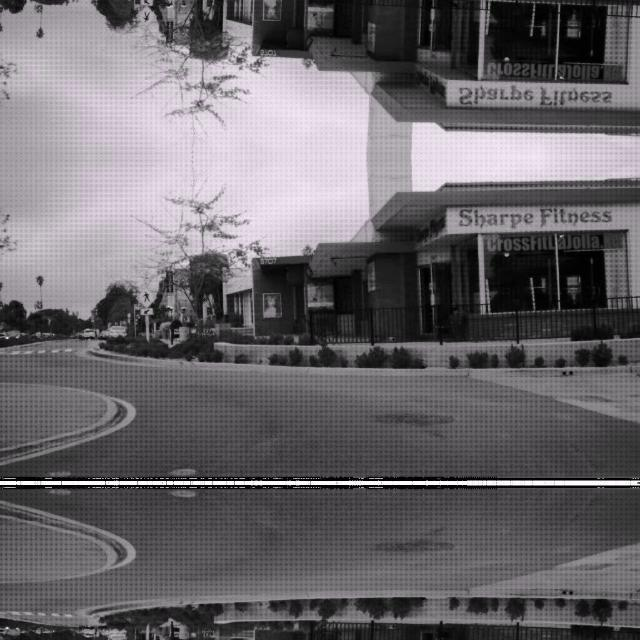pedestrianCrossing: (134, 285, 156, 307), (134, 5, 156, 27)
